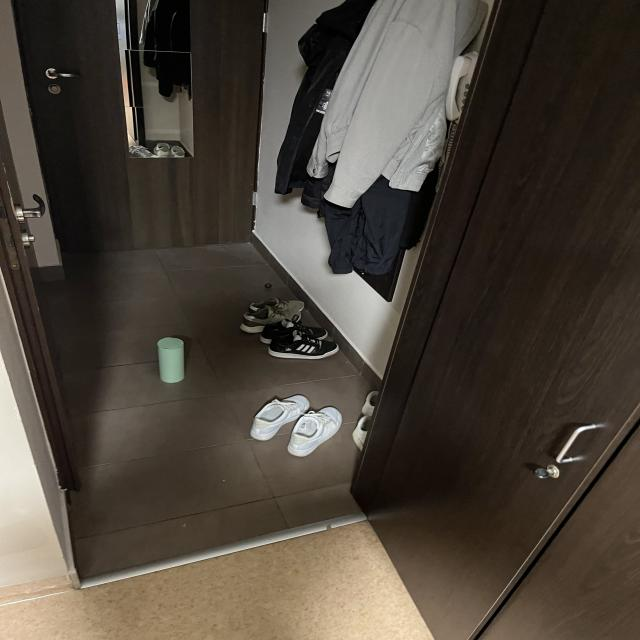meta: (157, 337, 184, 383)
